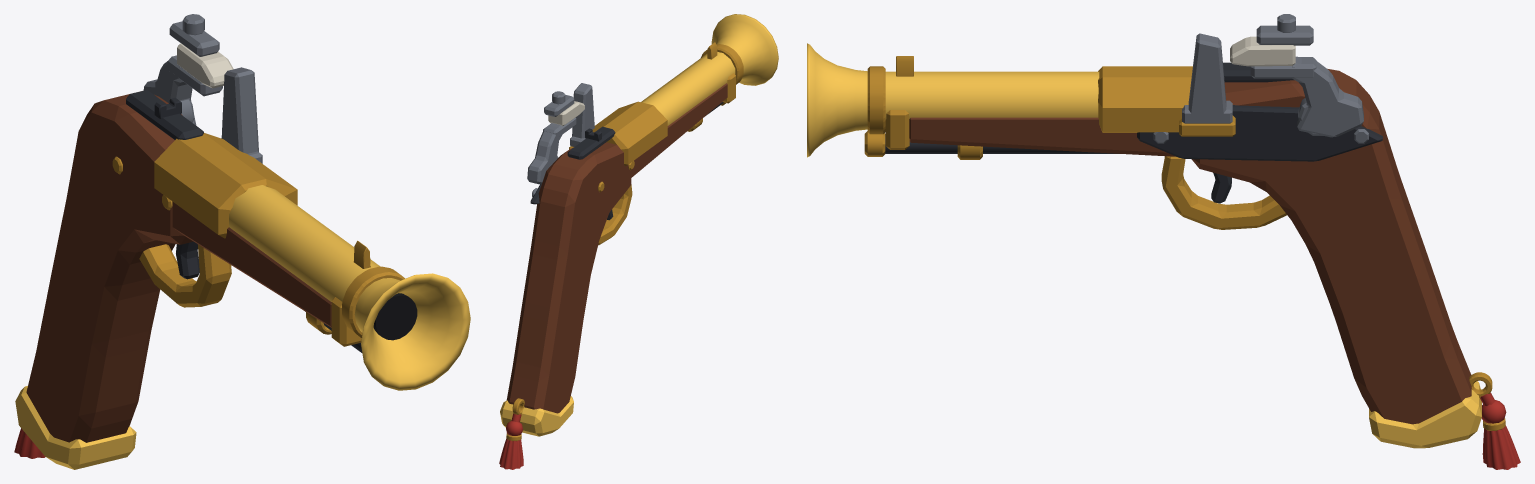
Rendered from w_revolver@revolver_flint.glb.
The picture shows the model from 3 angles, left to right: view 1: azimuth 30°, elevation 25°; view 2: azimuth 150°, elevation 25°; view 3: azimuth 270°, elevation 25°; orthographic projection. The views are drawn at different scales.
Parts seen in each view (by area): view 1: stock_wzA__wood__p6b3a24, barrel_wzA__gold__pf2c14e, barrel_wzB__gold2__pb8862b, stock_wzN__gold2__pb8862b, stock_wzN__gold__pf2c14e, hammer_wzN__steel__p6d727c, lock_wzN__steel__p6d727c, body_wzB__iron__p2b2e35, barrel_wzN__gold2__pb8862b, trim_wzN__black__p16171b, hammer_wzN__flint__pd2ccbd, stock_wzN__iron__p2b2e35 (+1 smaller); view 2: stock_wzA__wood__p6b3a24, barrel_wzA__gold__pf2c14e, barrel_wzB__gold2__pb8862b, hammer_wzN__steel__p6d727c, stock_wzN__gold__pf2c14e, stock_wzN__gold2__pb8862b, lock_wzN__steel__p6d727c, tassel_wzN__red__pa8322a, body_wzB__iron__p2b2e35, barrel_wzN__gold2__pb8862b, hammer_wzN__flint__pd2ccbd; view 3: stock_wzA__wood__p6b3a24, barrel_wzA__gold__pf2c14e, lock_wzB__iron__p2b2e35, barrel_wzB__gold2__pb8862b, stock_wzN__gold2__pb8862b, hammer_wzN__steel__p6d727c, lock_wzN__steel__p6d727c, stock_wzN__gold__pf2c14e, tassel_wzN__red__pa8322a, stock_wzN__iron__p2b2e35, barrel_wzN__gold2__pb8862b, hammer_wzN__flint__pd2ccbd (+1 smaller).
Part boxes in pixels (box(x1,y1,x2,y2)): stock_wzA__wood__p6b3a24: box(26, 94, 331, 442); barrel_wzA__gold__pf2c14e: box(229, 185, 470, 390); barrel_wzB__gold2__pb8862b: box(154, 133, 297, 238); stock_wzN__gold2__pb8862b: box(112, 156, 361, 346); stock_wzN__gold__pf2c14e: box(15, 386, 136, 469); hammer_wzN__steel__p6d727c: box(143, 14, 222, 125); lock_wzN__steel__p6d727c: box(221, 67, 262, 163); body_wzB__iron__p2b2e35: box(126, 90, 203, 139); barrel_wzN__gold2__pb8862b: box(342, 240, 405, 337); trim_wzN__black__p16171b: box(373, 293, 417, 340); hammer_wzN__flint__pd2ccbd: box(177, 43, 233, 88); stock_wzN__iron__p2b2e35: box(176, 241, 362, 352); stock_wzA__wood__p6b3a24: box(506, 83, 727, 413); barrel_wzA__gold__pf2c14e: box(641, 14, 778, 125); barrel_wzB__gold2__pb8862b: box(592, 101, 667, 166); hammer_wzN__steel__p6d727c: box(527, 91, 576, 184); stock_wzN__gold__pf2c14e: box(500, 396, 573, 436); stock_wzN__gold2__pb8862b: box(512, 73, 735, 414); lock_wzN__steel__p6d727c: box(532, 83, 594, 196); tassel_wzN__red__pa8322a: box(499, 413, 523, 469); body_wzB__iron__p2b2e35: box(567, 126, 615, 159); barrel_wzN__gold2__pb8862b: box(701, 42, 743, 84); hammer_wzN__flint__pd2ccbd: box(548, 101, 584, 125); stock_wzA__wood__p6b3a24: box(909, 68, 1471, 424); barrel_wzA__gold__pf2c14e: box(807, 43, 1099, 157); lock_wzB__iron__p2b2e35: box(1137, 105, 1382, 161); barrel_wzB__gold2__pb8862b: box(1098, 66, 1192, 132); stock_wzN__gold2__pb8862b: box(864, 110, 1492, 397); hammer_wzN__steel__p6d727c: box(1250, 14, 1363, 137); lock_wzN__steel__p6d727c: box(1153, 33, 1368, 143); stock_wzN__gold__pf2c14e: box(1369, 381, 1481, 448); tassel_wzN__red__pa8322a: box(1480, 392, 1520, 469); stock_wzN__iron__p2b2e35: box(885, 134, 1231, 203); barrel_wzN__gold2__pb8862b: box(867, 56, 913, 134); hammer_wzN__flint__pd2ccbd: box(1230, 36, 1295, 66).
Bounding box in the file's own units: 0.077 × 0.342 × 0.477.
